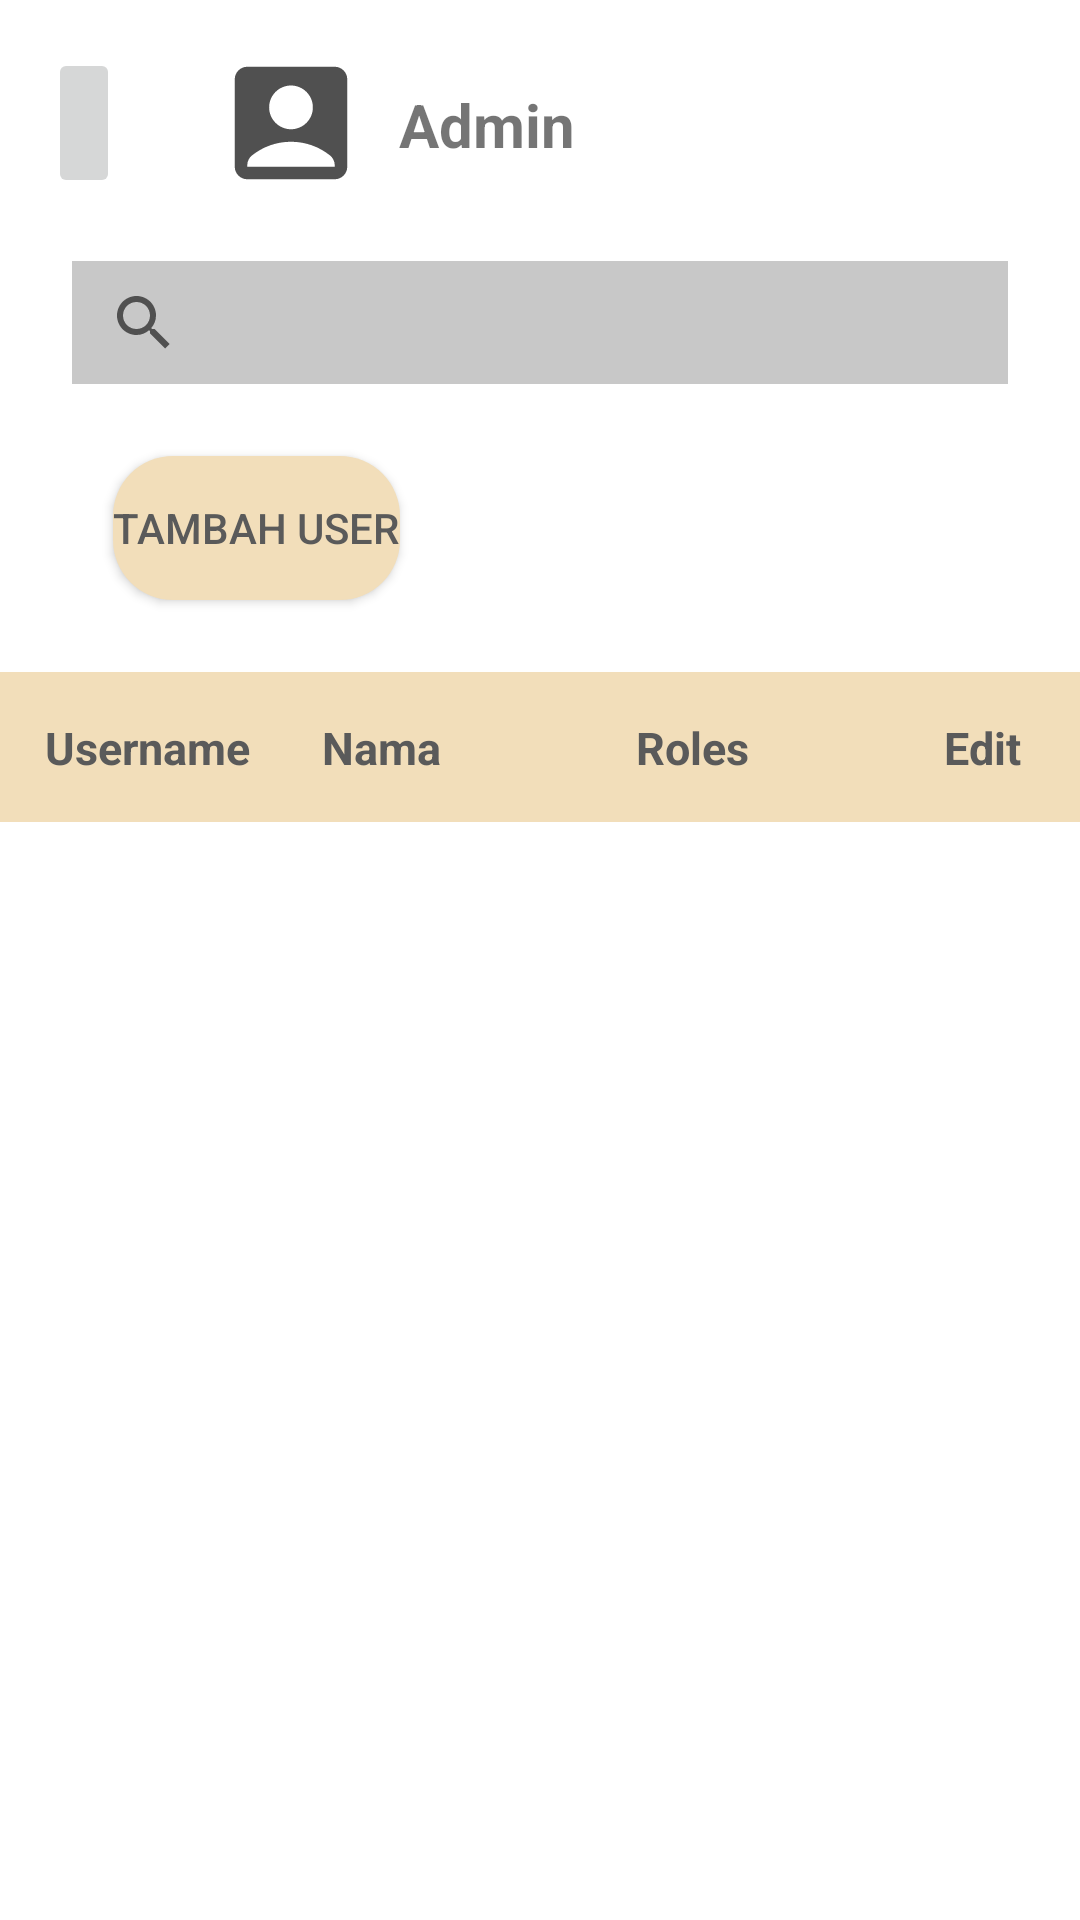

Named icons in this screenshot (1080×1920) and their bounding boxes, (x1, y1, x2, y2):
account box: (234, 66, 348, 180)
